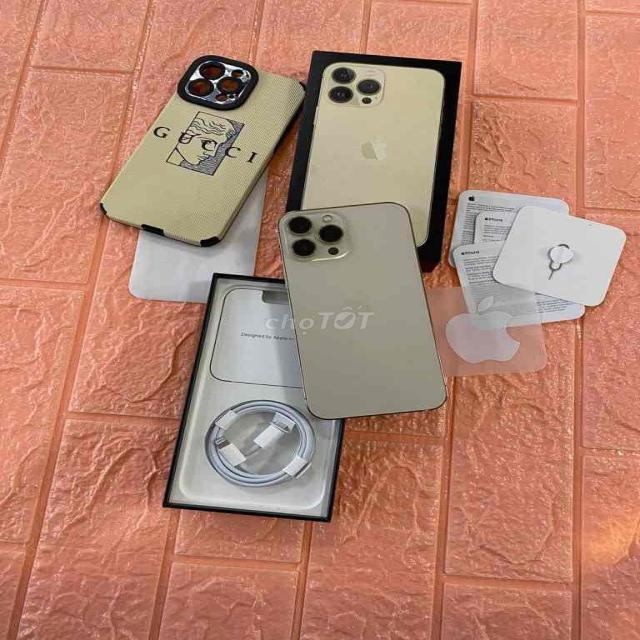gen_12_13: (270, 201, 460, 418)
